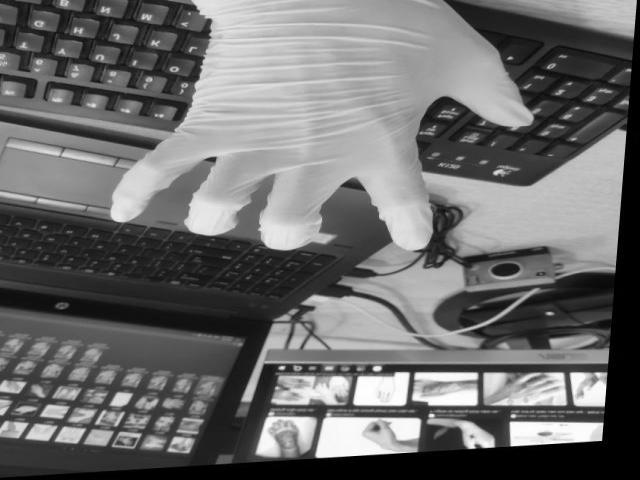gloved: (110, 0, 528, 252)
